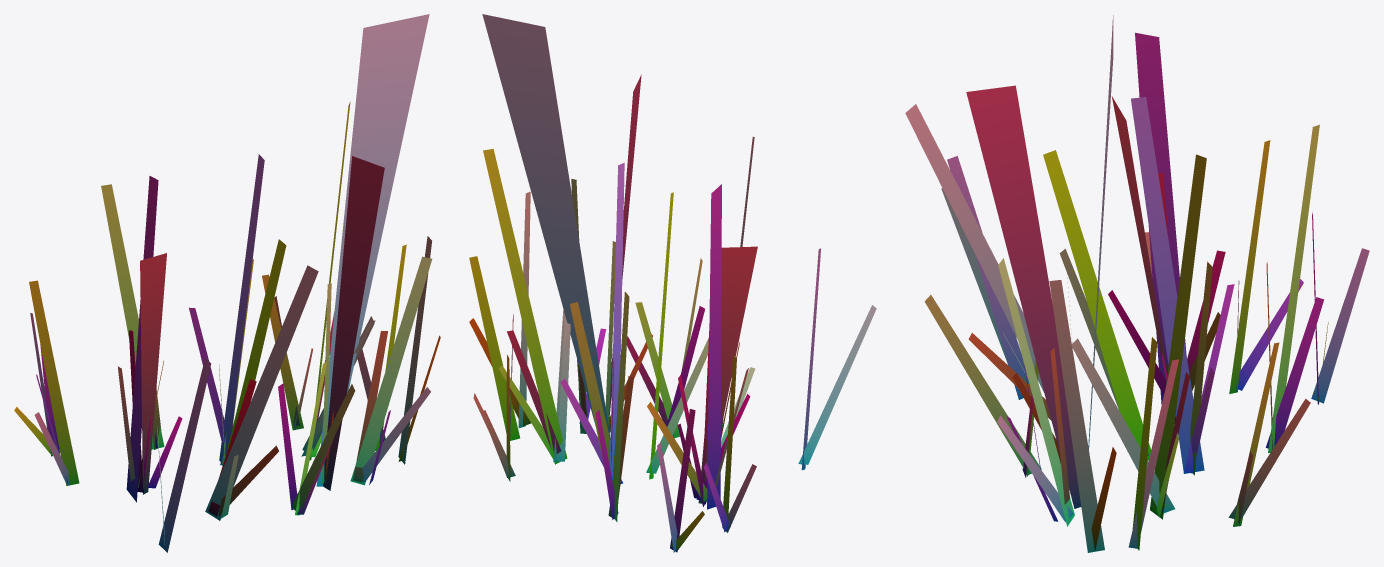
The model's file is Nordic_Coastal_Groundcover_vlqkdeaja_Mid_vlqkdeaja_VarM_LOD2.fbx.
3 renders of one model, left to right at view 1: azimuth 30°, elevation 25°; view 2: azimuth 150°, elevation 25°; view 3: azimuth 270°, elevation 25°, orthographic. The views are drawn at different scales.
Visible parts, largest first — view 1: _bbn6_VarM_LOD4; view 2: _bbn6_VarM_LOD4; view 3: _bbn6_VarM_LOD4.
Boxes of the visible parts, <box> form: _bbn6_VarM_LOD4: <box>14,14,440,552</box>; _bbn6_VarM_LOD4: <box>469,14,876,552</box>; _bbn6_VarM_LOD4: <box>905,15,1369,552</box>.
Bounding box in the file's own units: 38.09 × 44.92 × 36.01.
